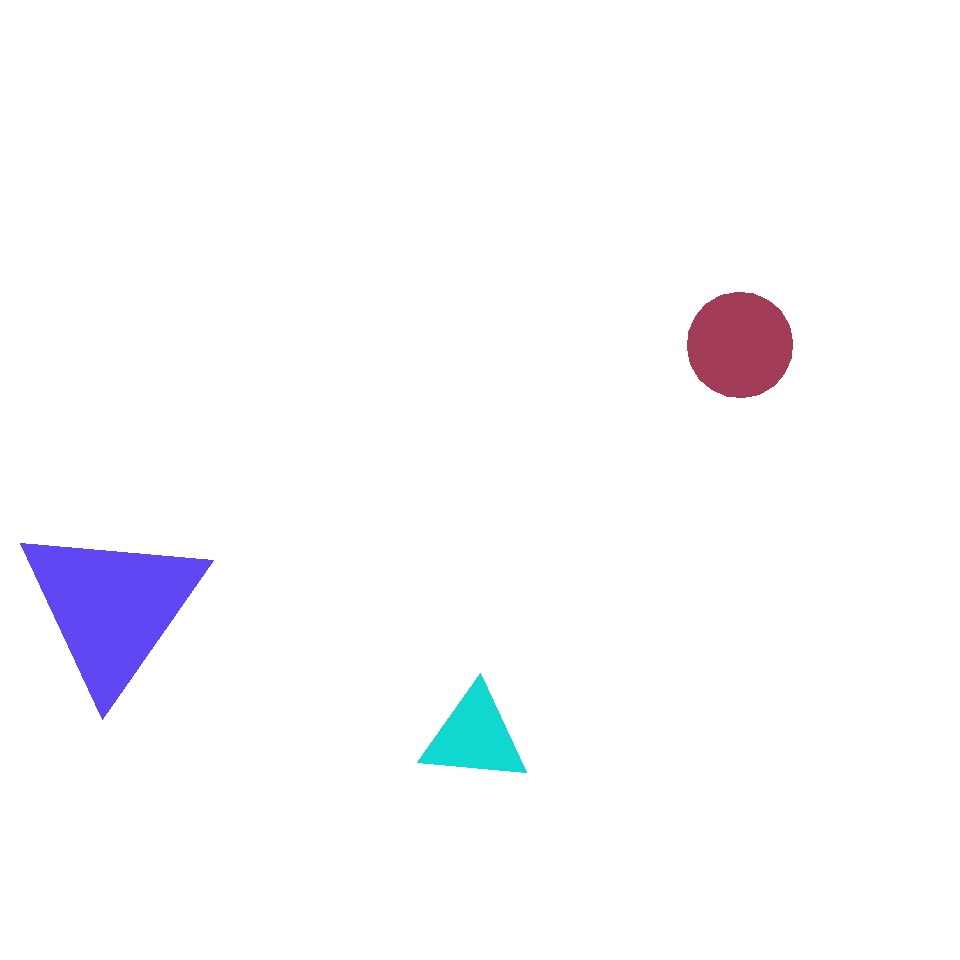circle: (15, 520, 208, 696), (420, 687, 530, 786)
square: (110, 284, 322, 496), (632, 394, 742, 504)
triangle: (160, 134, 510, 484), (496, 8, 764, 278), (516, 764, 691, 938), (158, 798, 286, 926), (688, 292, 792, 398)
